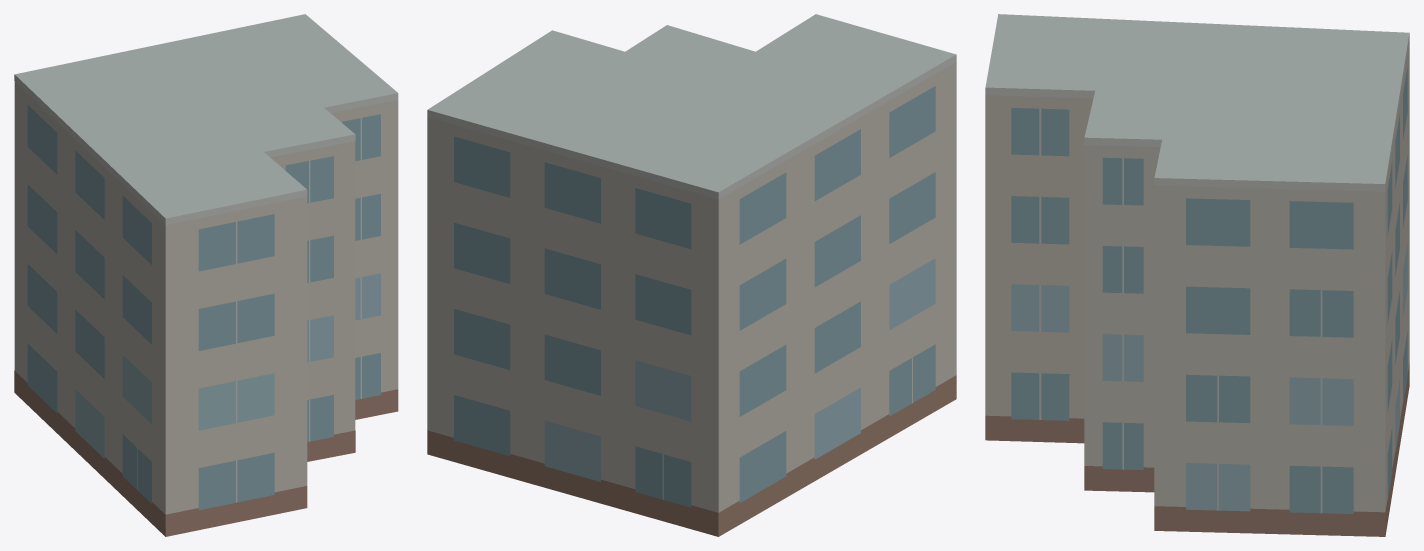
Rendered from survey-upis-32966989.glb.
3 views of the same model, side by side, from view 1: azimuth 30°, elevation 25°; view 2: azimuth 150°, elevation 25°; view 3: azimuth 270°, elevation 25° (orthographic). The views are drawn at different scales.
Parts seen in each view (by area): view 1: survey-upis-32966989.tmp; view 2: survey-upis-32966989.tmp; view 3: survey-upis-32966989.tmp.
Boxes of the visible parts, x1,y1,x2,y2 form: survey-upis-32966989.tmp: [14, 14, 398, 536]; survey-upis-32966989.tmp: [427, 14, 956, 536]; survey-upis-32966989.tmp: [985, 14, 1409, 536].
Bounding box in the file's own units: 11.85 × 11.45 × 12.49.
